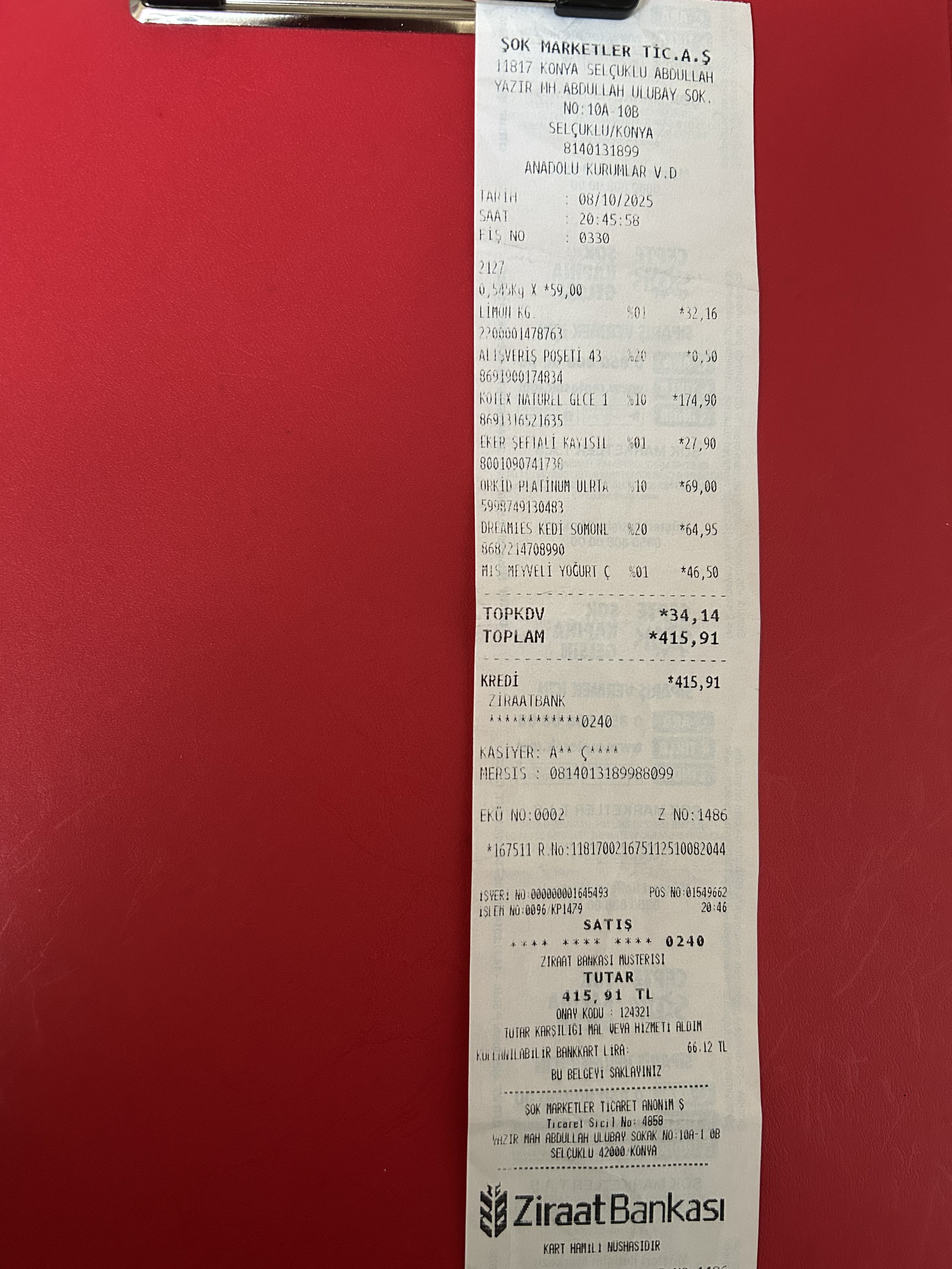date: (655, 626, 726, 651)
price: (575, 189, 660, 212)
workplace: (486, 31, 726, 140)
